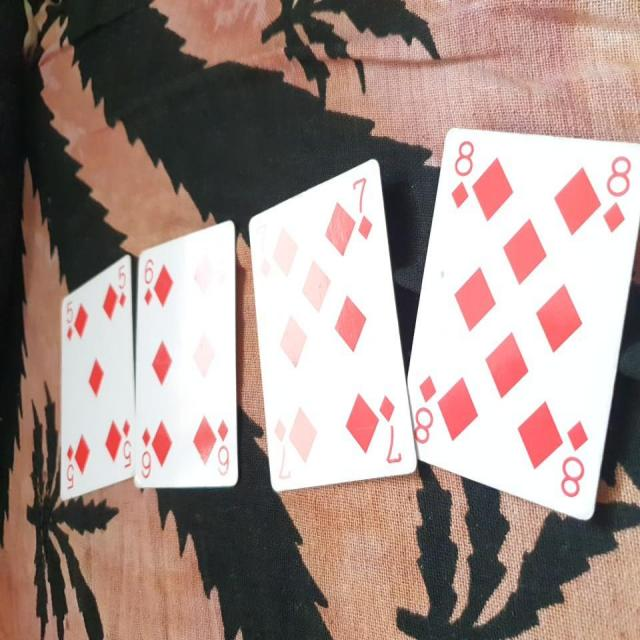5 Diamonds: (59, 252, 139, 497)
6 Diamonds: (133, 218, 240, 491)
7 Diamonds: (247, 153, 418, 492)
8 Diamonds: (405, 126, 640, 524)
